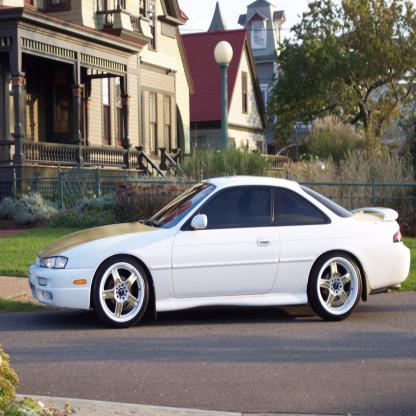Vehicle: (27, 176, 411, 330)
